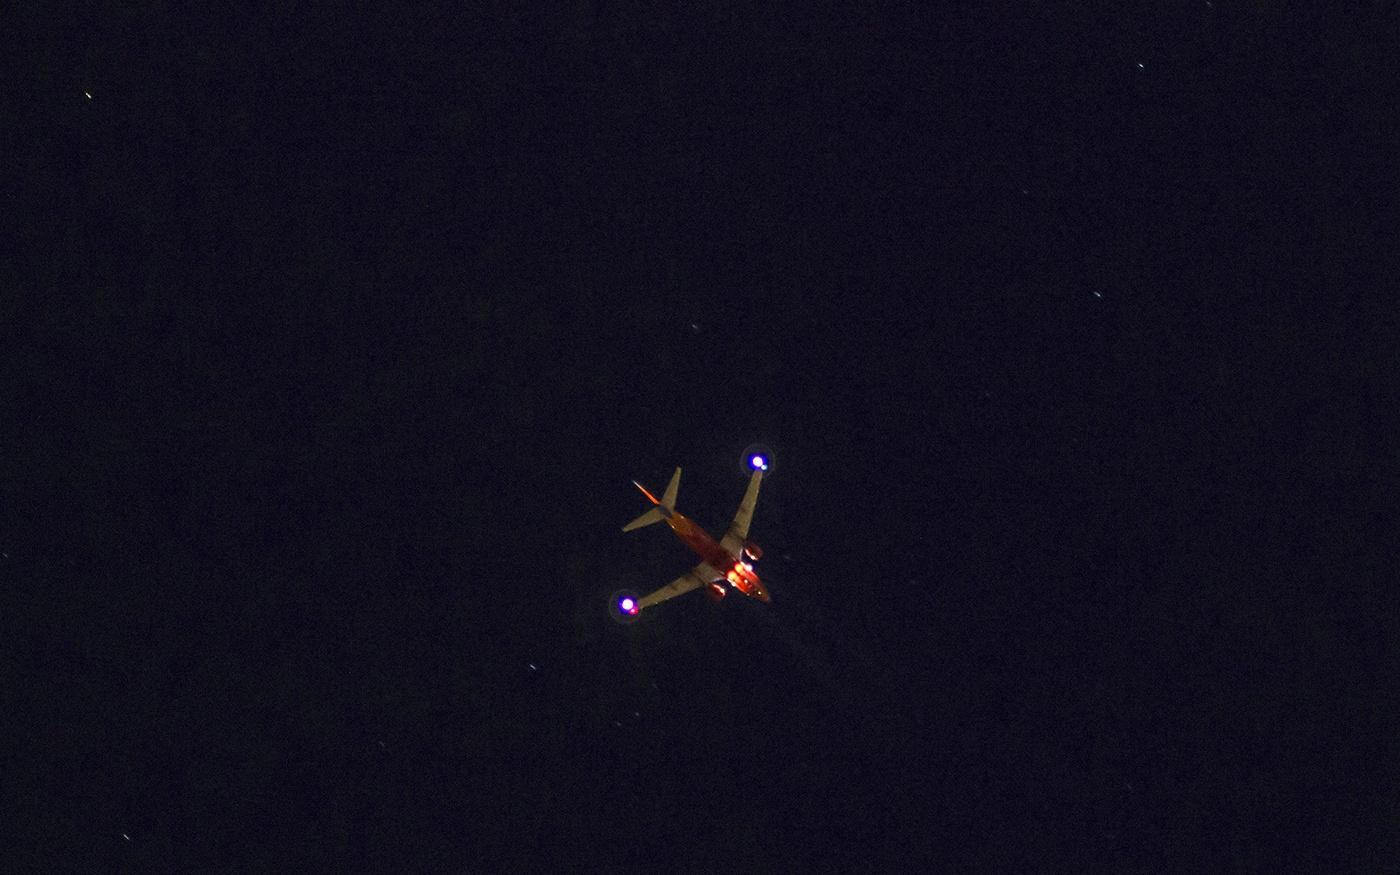Plane: (592, 425, 801, 678)
